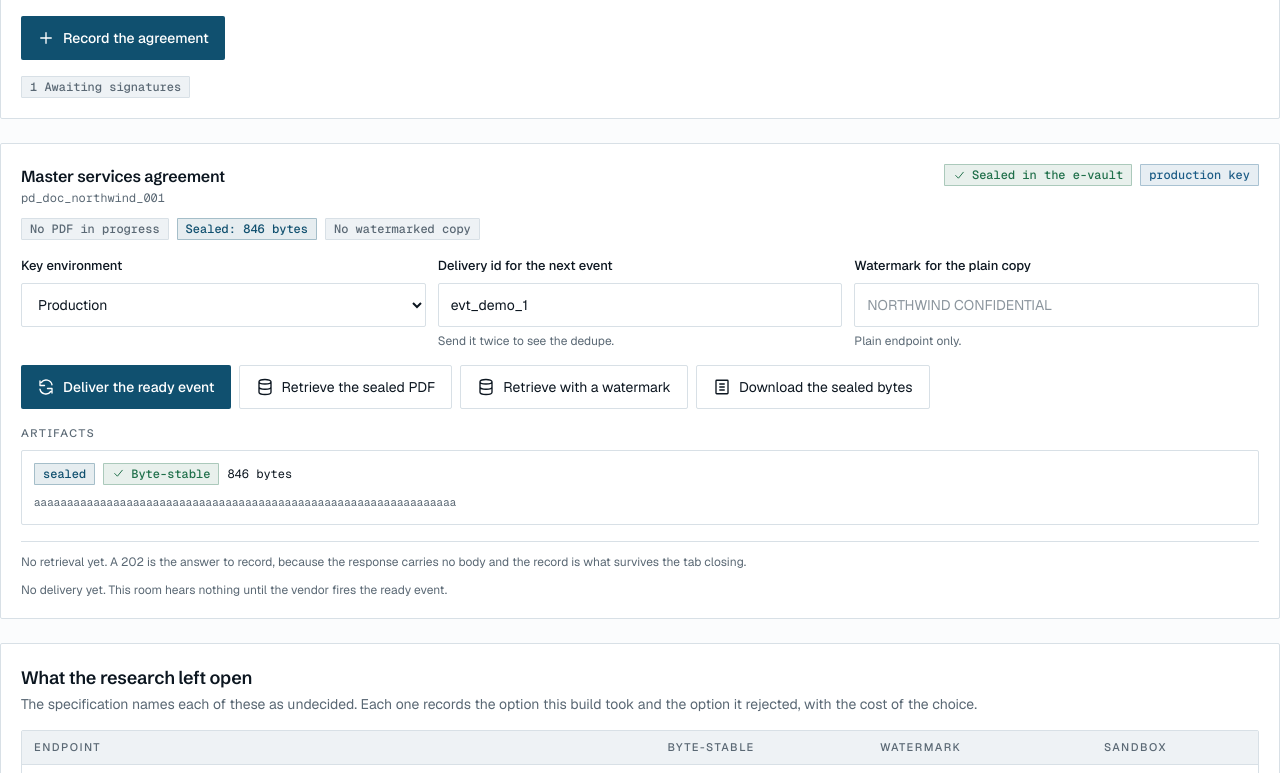
it: the back-pressure signal › shows the 202 from the download itself, not from the log
(page scrolled)
Step 1. Click the button "Download the sealed bytes" → x=813, y=386, box [696,364,930,408]
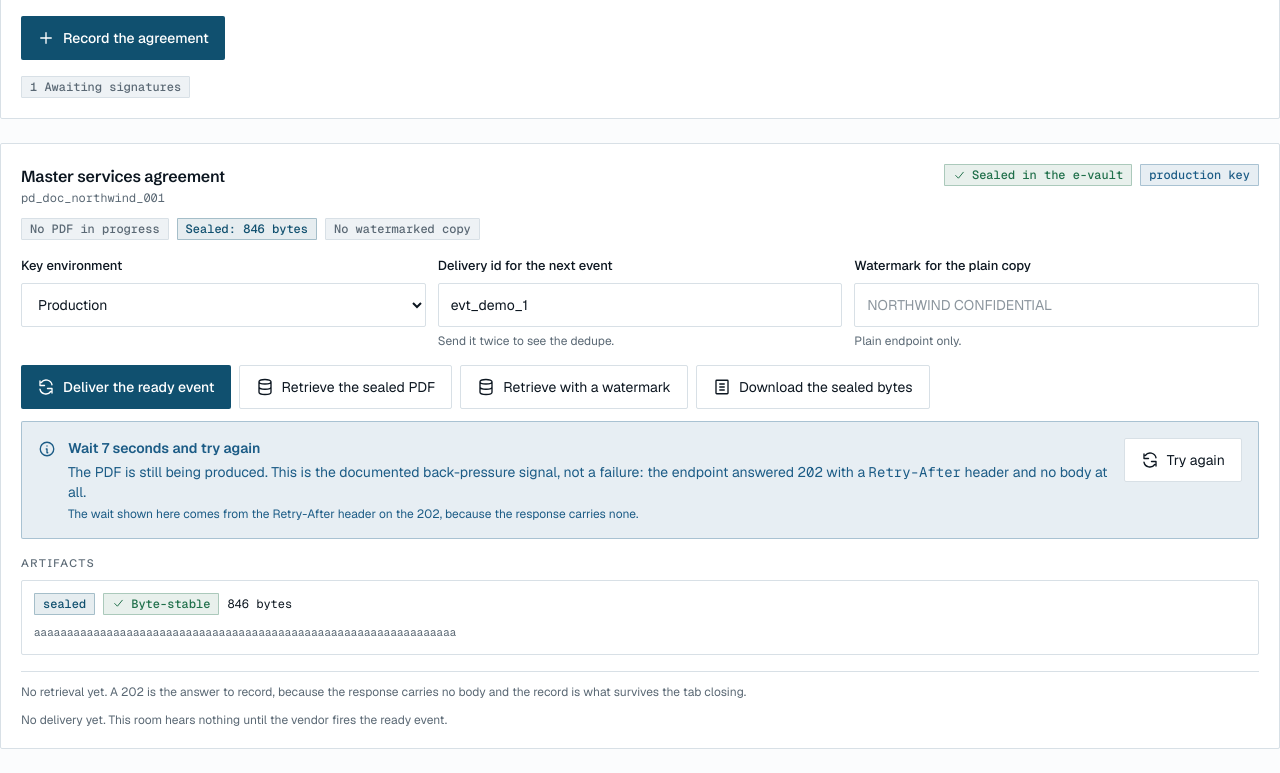
expect the text "Wait 7 seconds and try again" is shown: met, box [68,438,260,456]
expect the text "Retry-After header on the 202" is shown: met, box [252,506,440,522]
